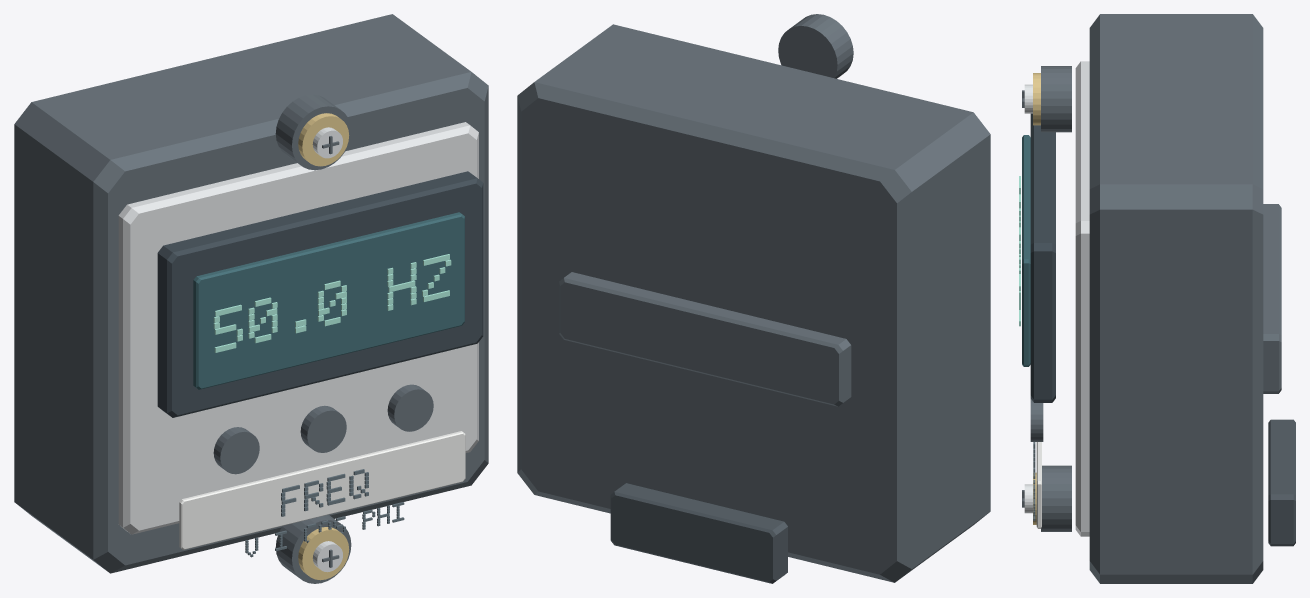
Rendered from frequencyMeter.glb.
3 renders of one model, left to right at view 1: azimuth 30°, elevation 25°; view 2: azimuth 150°, elevation 25°; view 3: azimuth 270°, elevation 25°, orthographic. The views are drawn at different scales.
Parts seen in each view (by area): view 1: frequencyMeter-detailed; view 2: frequencyMeter-detailed; view 3: frequencyMeter-detailed.
Boxes of the visible parts, bbox=[...] form: frequencyMeter-detailed: bbox=[14, 14, 488, 583]; frequencyMeter-detailed: bbox=[517, 14, 990, 583]; frequencyMeter-detailed: bbox=[1019, 14, 1295, 583].
Bounding box in the file's own units: 2.08 × 2.4 × 1.31.
